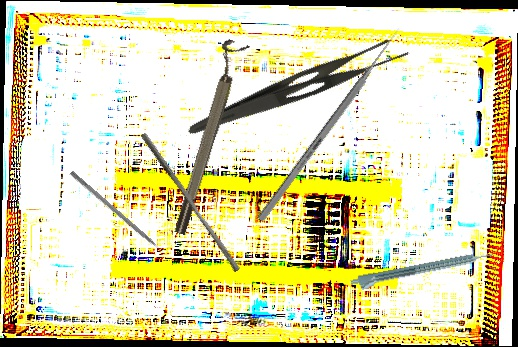Dressing Forceps: (185, 23, 413, 160)
Fixation Ring: (162, 37, 251, 237)
Handpiece: (349, 249, 496, 294)
Hook Surgical: (68, 170, 170, 260)
Pusher: (257, 26, 403, 223), (134, 132, 246, 273)
